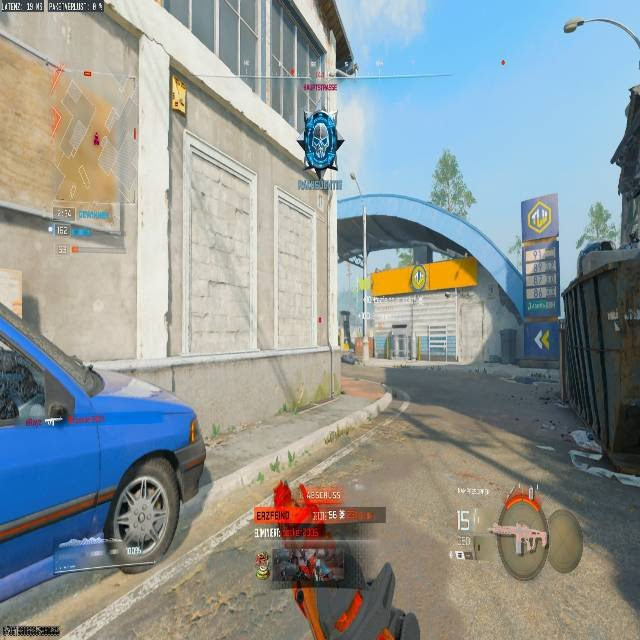player: (298, 109, 343, 179)
